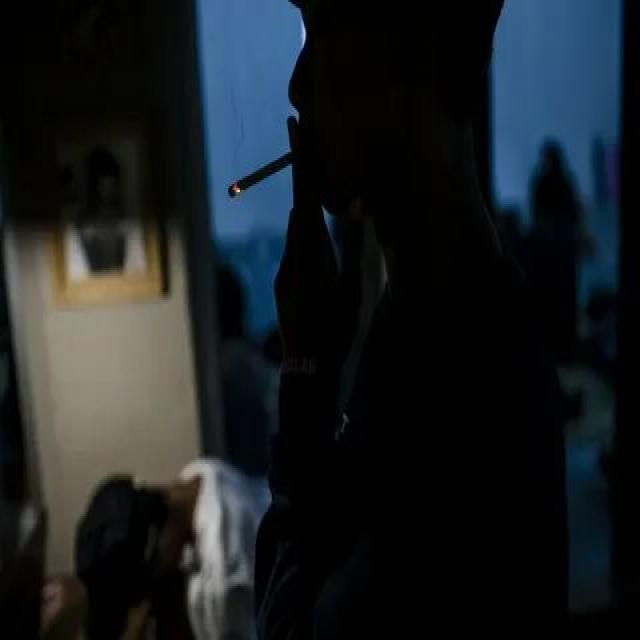cigarette: (226, 144, 298, 204)
